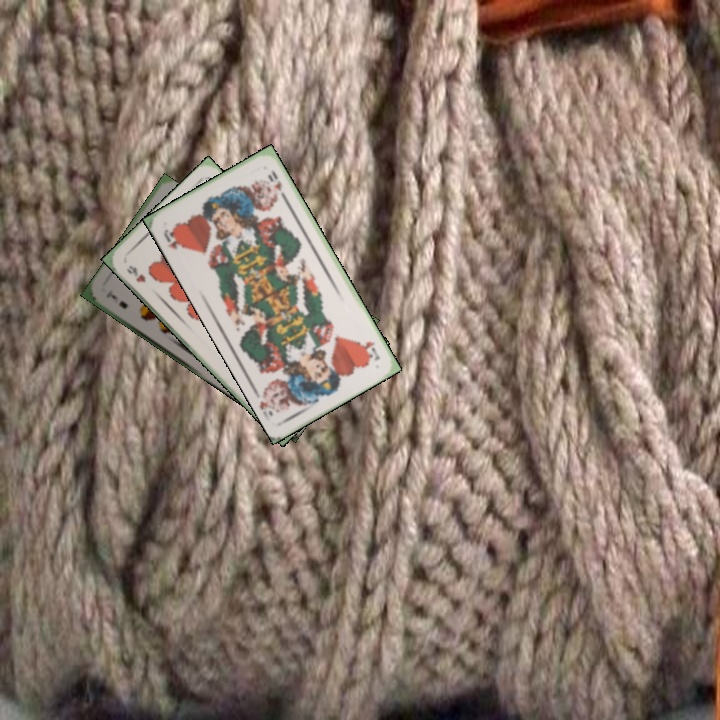E7: (102, 287, 130, 312)
H9: (123, 261, 148, 285)
HO: (160, 224, 186, 252), (359, 337, 382, 363)
